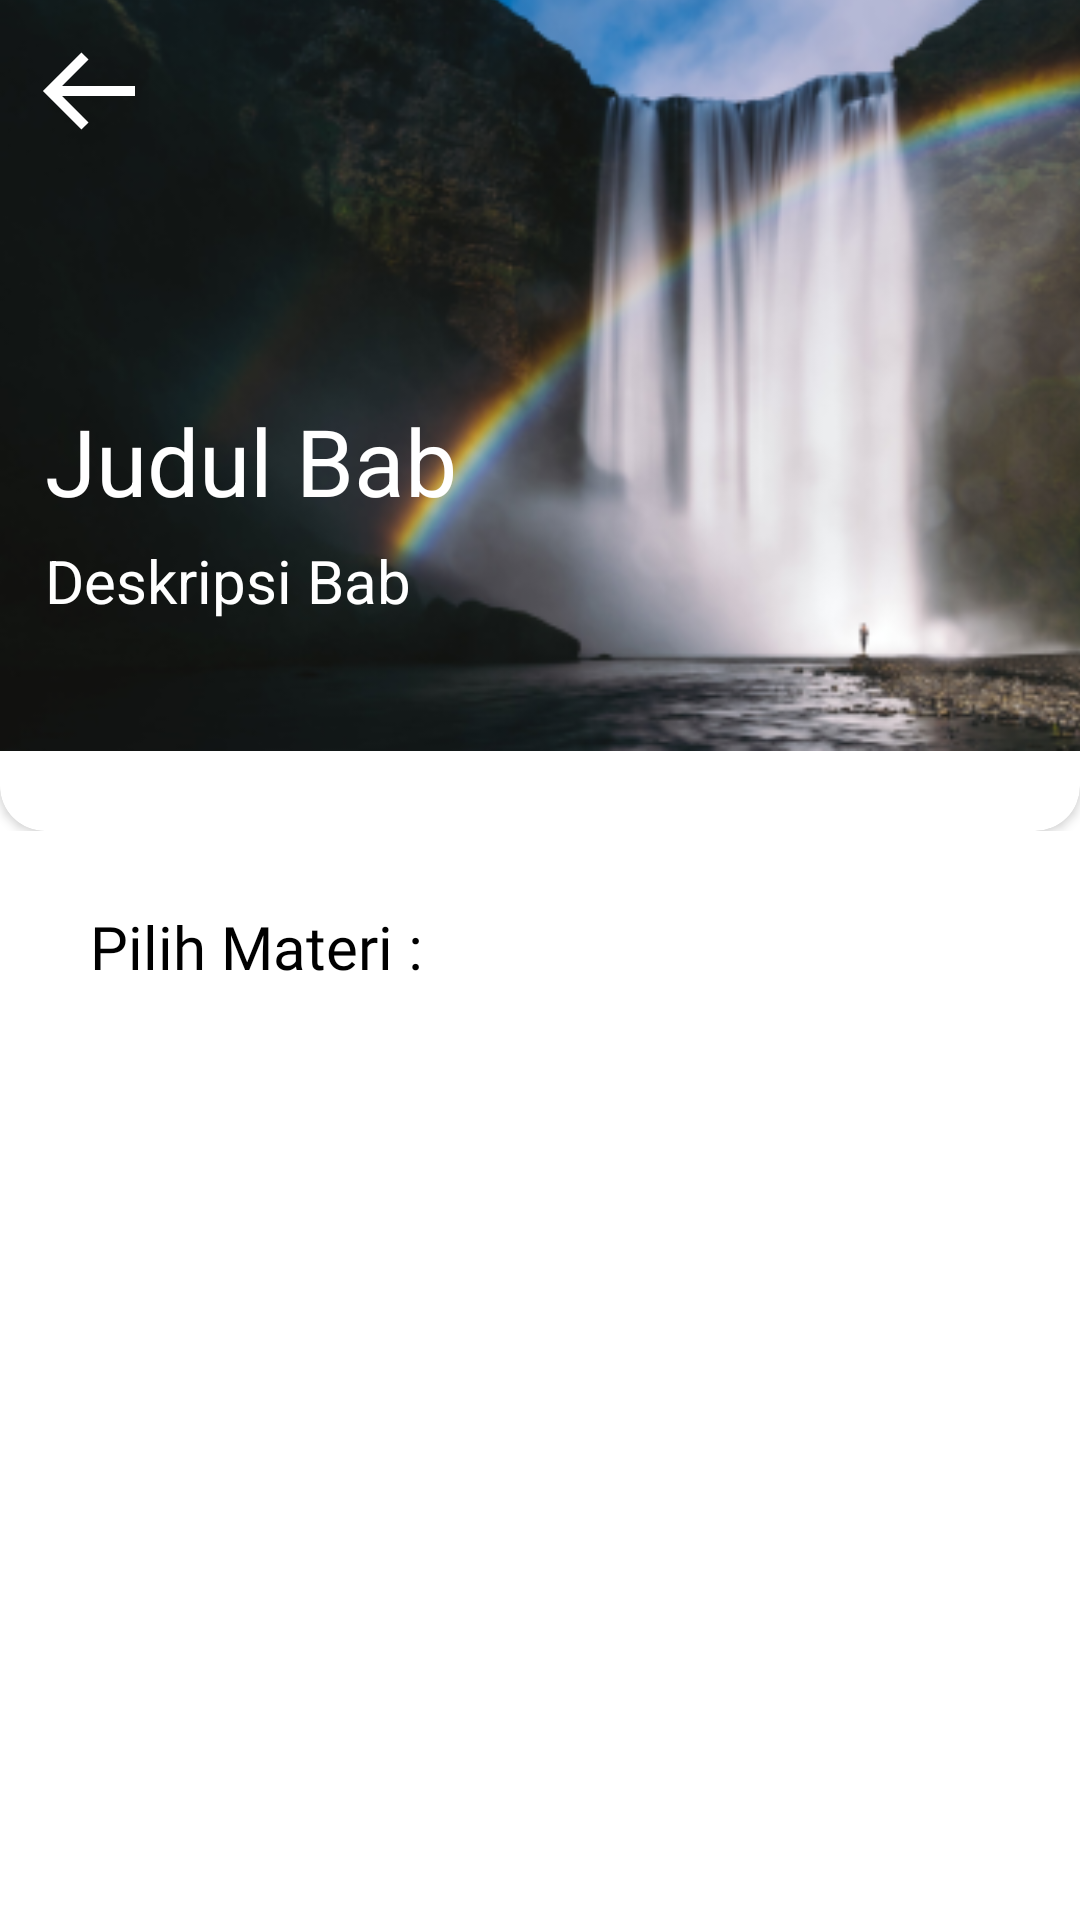

Point at icon controls on the screen. Image size 1080w x 1920h, points as (x,y).
back: (89,91)
